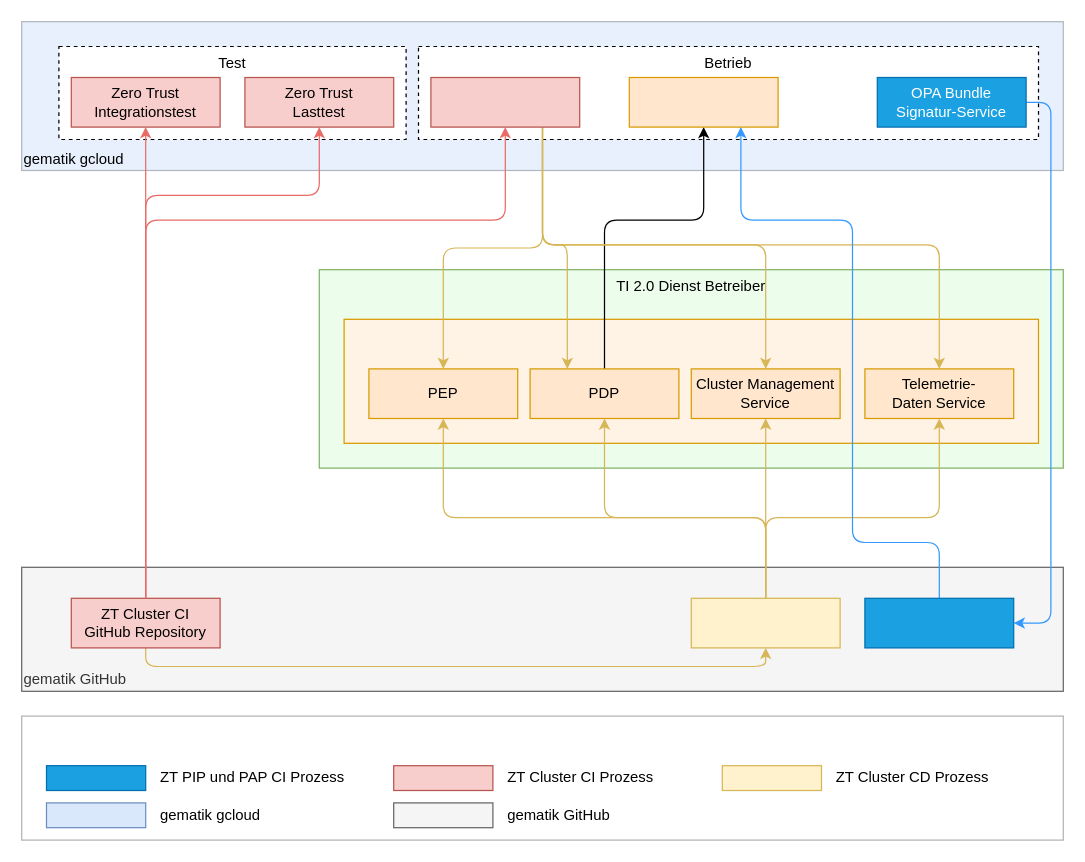
This 1085x862 diagram has some shape labels left out. The box of each missing label's shape, as (x1, y1, x2, y2) in pixels:
Container Registry: (430, 76, 580, 127)
Legende: (20, 715, 1063, 840)
PIP und PAP Service: (628, 76, 778, 127)
Zero Trust Cluster: (343, 318, 1038, 443)
ZT Cluster CD GitHub Repository: (690, 597, 840, 648)
ZT PIP und PAP CI GitHub Repository: (864, 597, 1014, 648)
